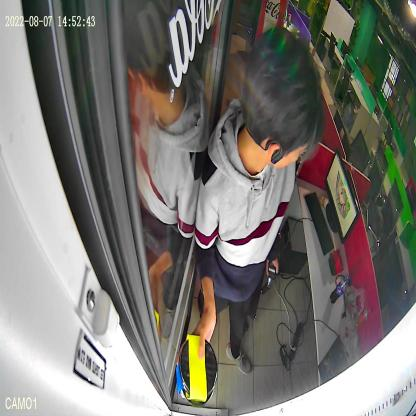blue: (176, 352, 215, 408)
yellow: (178, 334, 219, 403)
